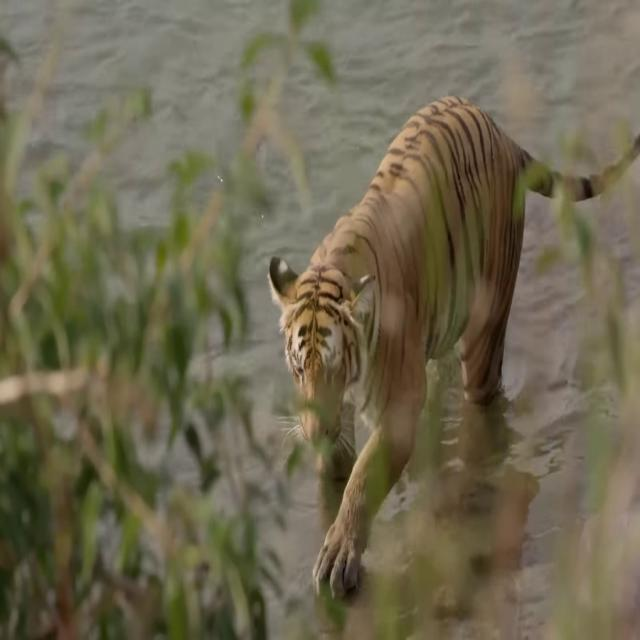tiger: (269, 95, 639, 598)
